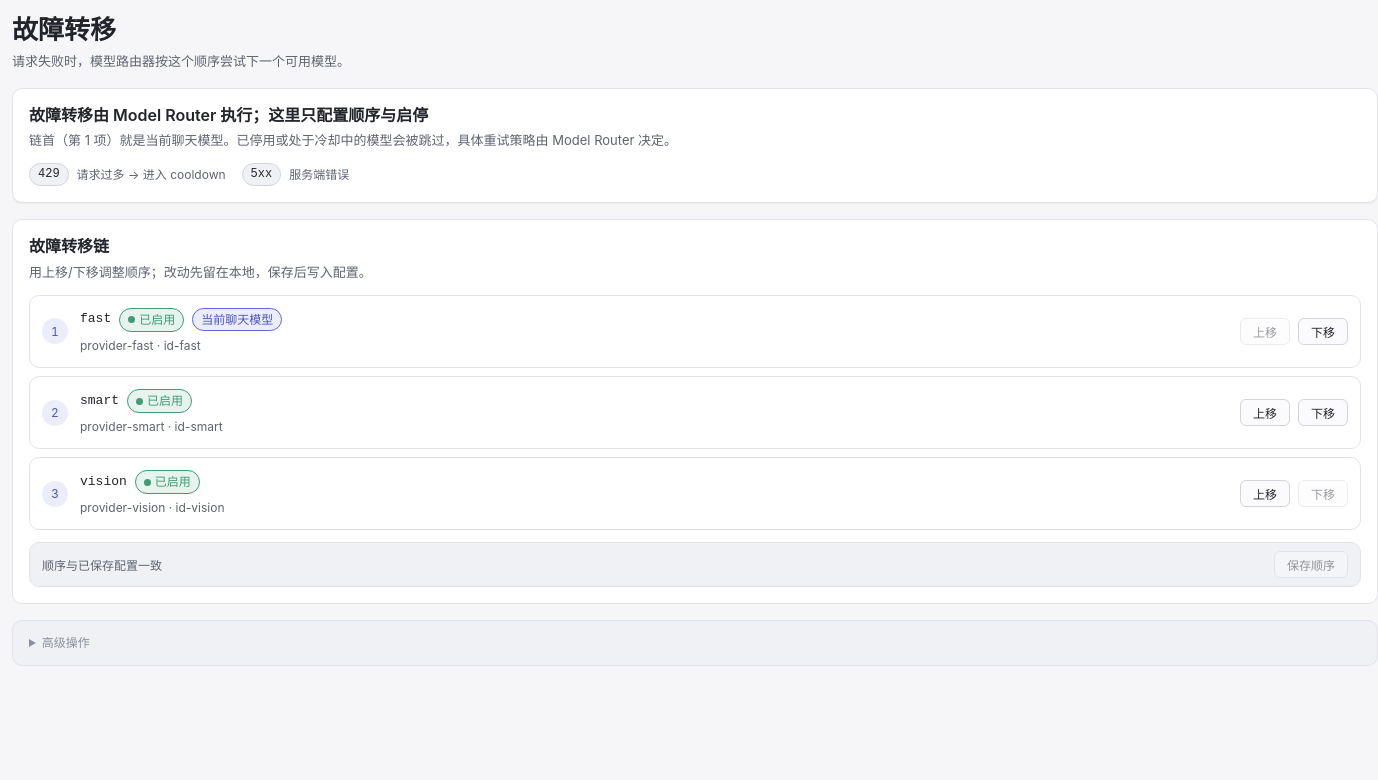
Test case: AiFailover › shows the backend message when saving the order fails
Click the button with test id "fb-down" in the row of "provider-fast".
click(1323, 332)  # box 1298,318 -> 1348,345
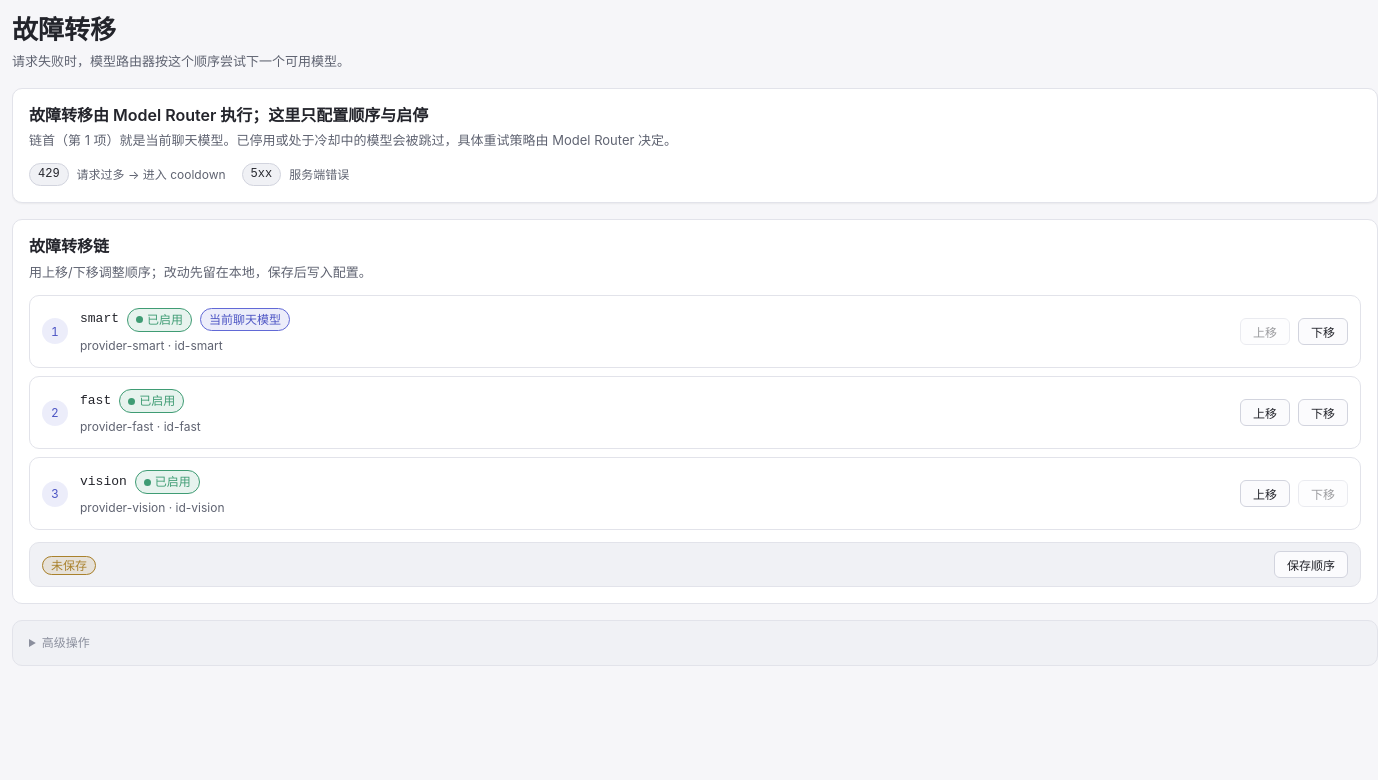
Click the button with test id "fb-save".
click(1311, 565)  # box 1274,551 -> 1348,578
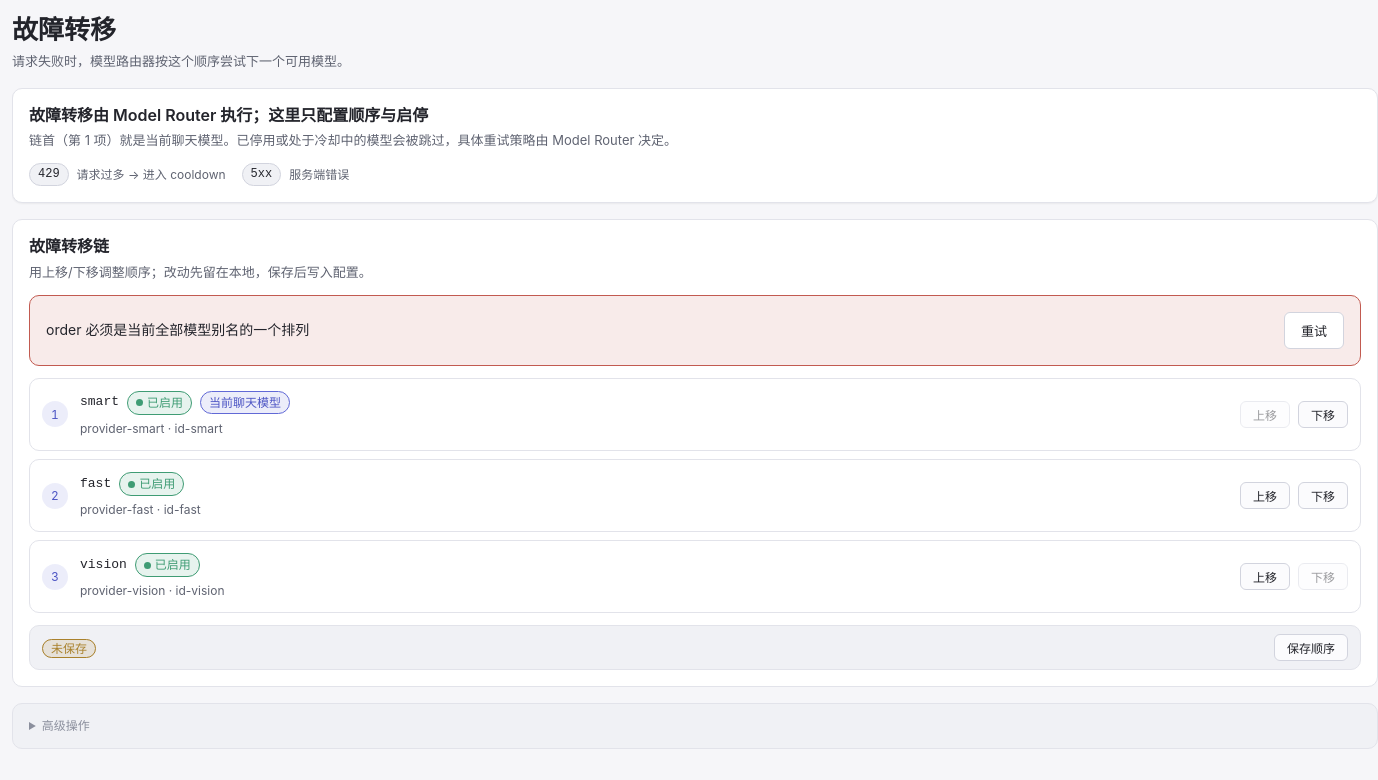
Expected: the text "order 必须是当前全部模型别名的一个排列" is shown, 46,319 -> 309,342
